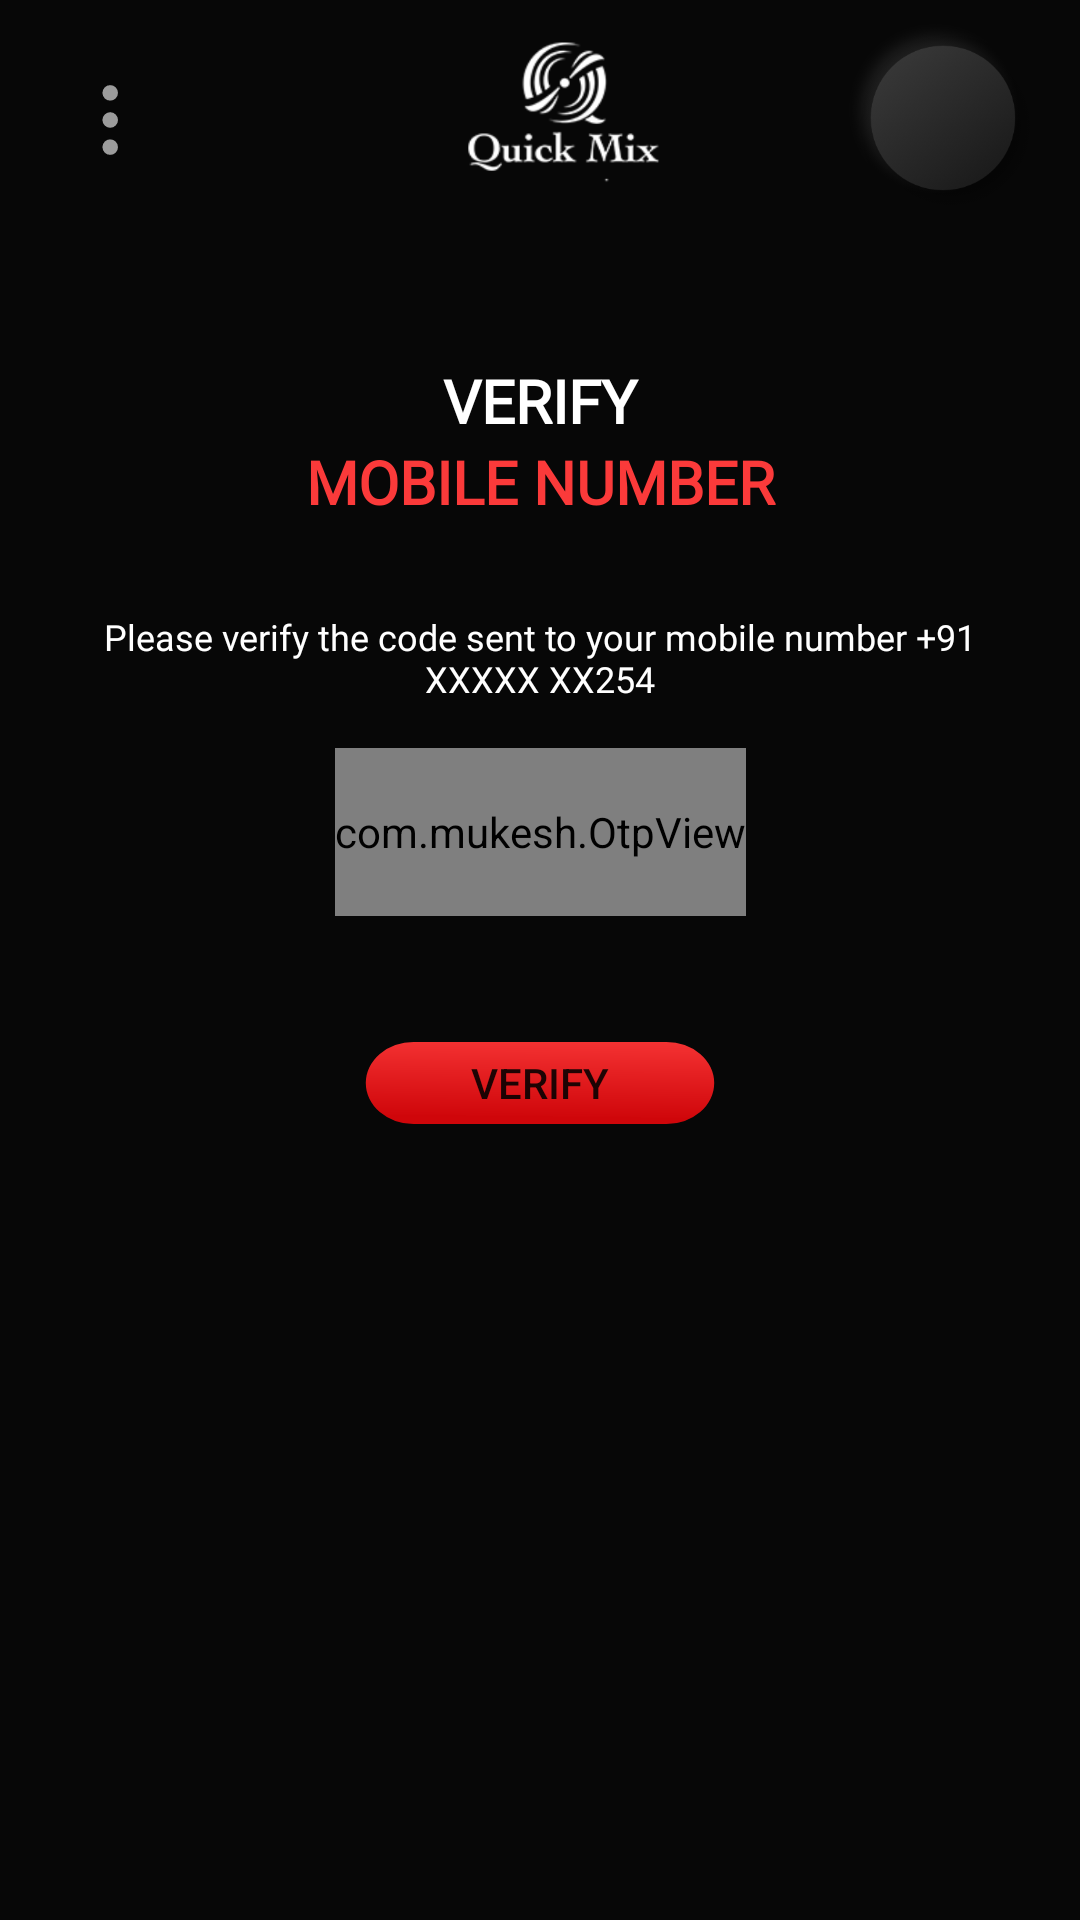

Point at icon controls on the screen. Image size 1080 × 1920, points as (x,y).
menu: (110,120)
